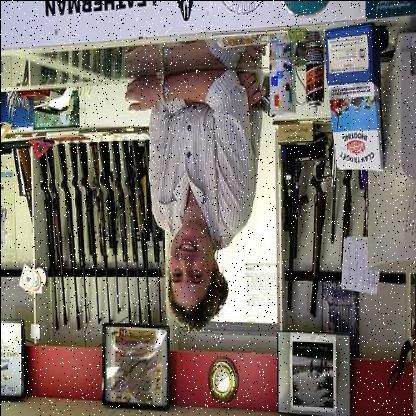rifle: (302, 126, 337, 329), (274, 131, 308, 315), (29, 147, 59, 331), (72, 141, 101, 325), (131, 114, 151, 338)
